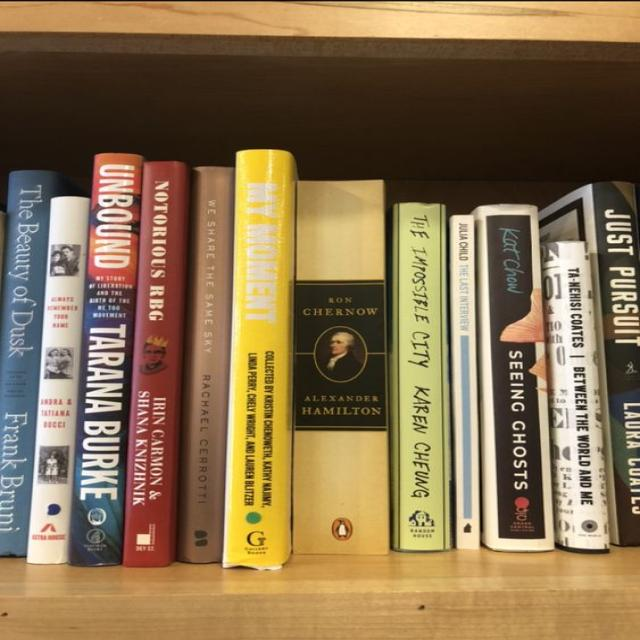book: (292, 180, 390, 553), (70, 152, 142, 566), (224, 149, 291, 567), (120, 161, 188, 567), (479, 203, 554, 550), (27, 197, 91, 563), (177, 167, 232, 562), (0, 169, 55, 555), (548, 241, 611, 552), (395, 202, 450, 551), (589, 183, 638, 548), (452, 215, 481, 548)
